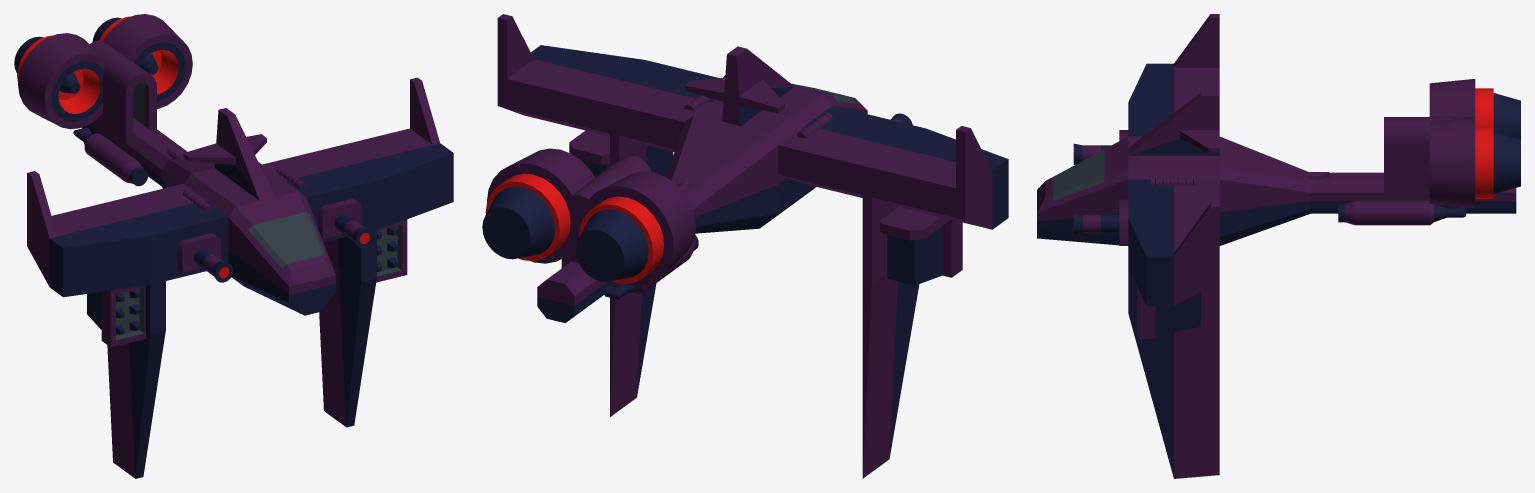
Rendered from spaceship1.glb.
The picture shows the model from 3 angles, left to right: view 1: azimuth 30°, elevation 25°; view 2: azimuth 150°, elevation 25°; view 3: azimuth 270°, elevation 25°; orthographic projection. The views are drawn at different scales.
Visible parts, largest first — view 1: mergedBlocks(Clone); view 2: mergedBlocks(Clone); view 3: mergedBlocks(Clone).
Boxes of the visible parts, x1,y1,x2,y2 form: mergedBlocks(Clone): [14, 14, 453, 478]; mergedBlocks(Clone): [482, 14, 1008, 478]; mergedBlocks(Clone): [1037, 14, 1520, 478].
Size of the model in its own units: 5 by 4 by 5.3.
